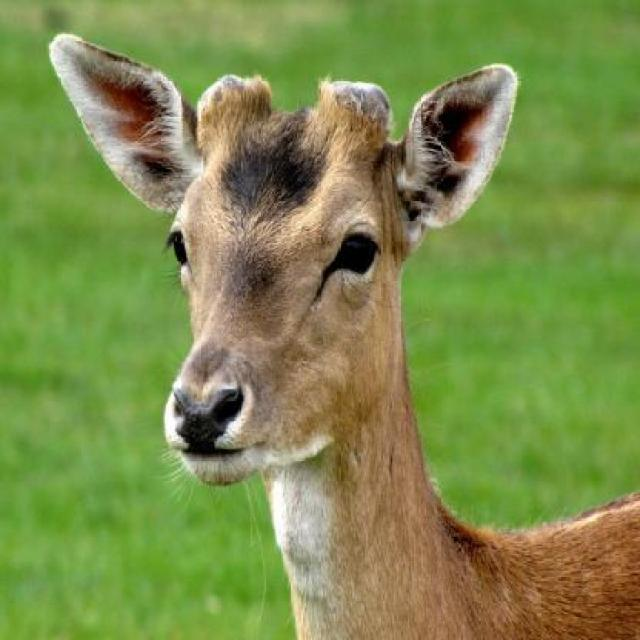Deer: (46, 32, 639, 638)
